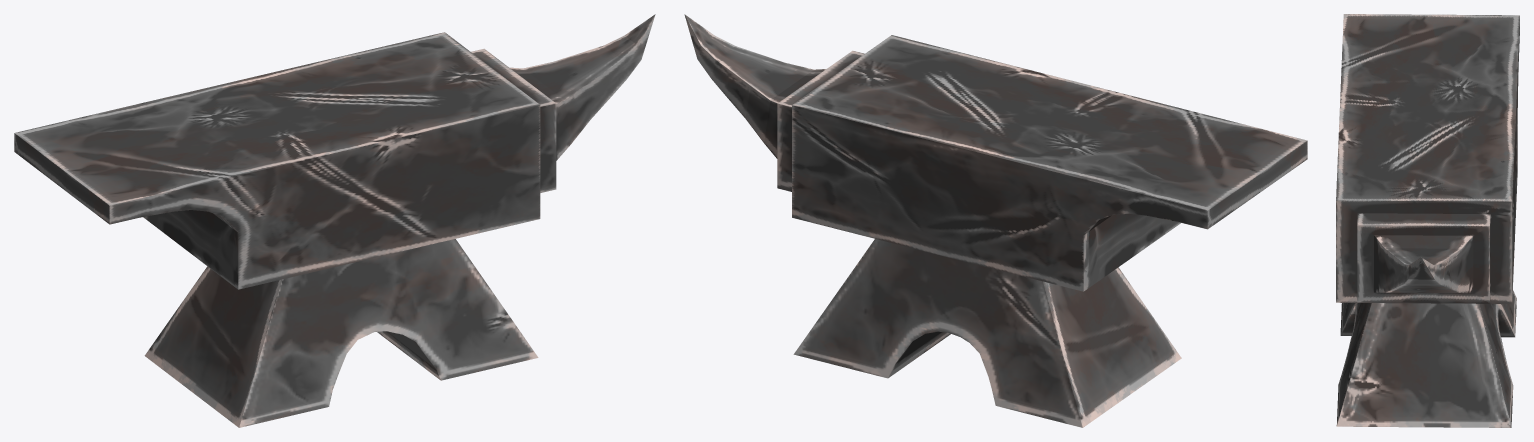
Rendered from P_Anvil_1.gltf.
3 renders of one model, left to right at view 1: azimuth 30°, elevation 25°; view 2: azimuth 150°, elevation 25°; view 3: azimuth 270°, elevation 25°, orthographic. The views are drawn at different scales.
Parts seen in each view (by area): view 1: anvil_low; view 2: anvil_low; view 3: anvil_low.
Boxes of the visible parts, box(x1,y1,x2,y2) form: anvil_low: box(14, 14, 655, 427); anvil_low: box(684, 14, 1307, 427); anvil_low: box(1336, 14, 1519, 427).
Bounding box in the file's own units: 2.14 × 0.933 × 0.6444.
Materials: 1 (1 with a texture image).
